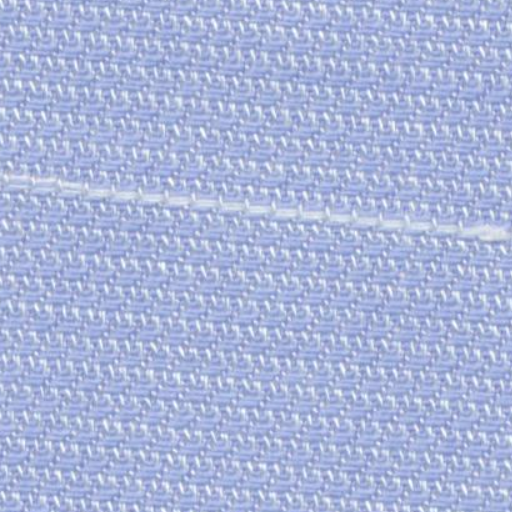TuoSha: (4, 154, 485, 268)
